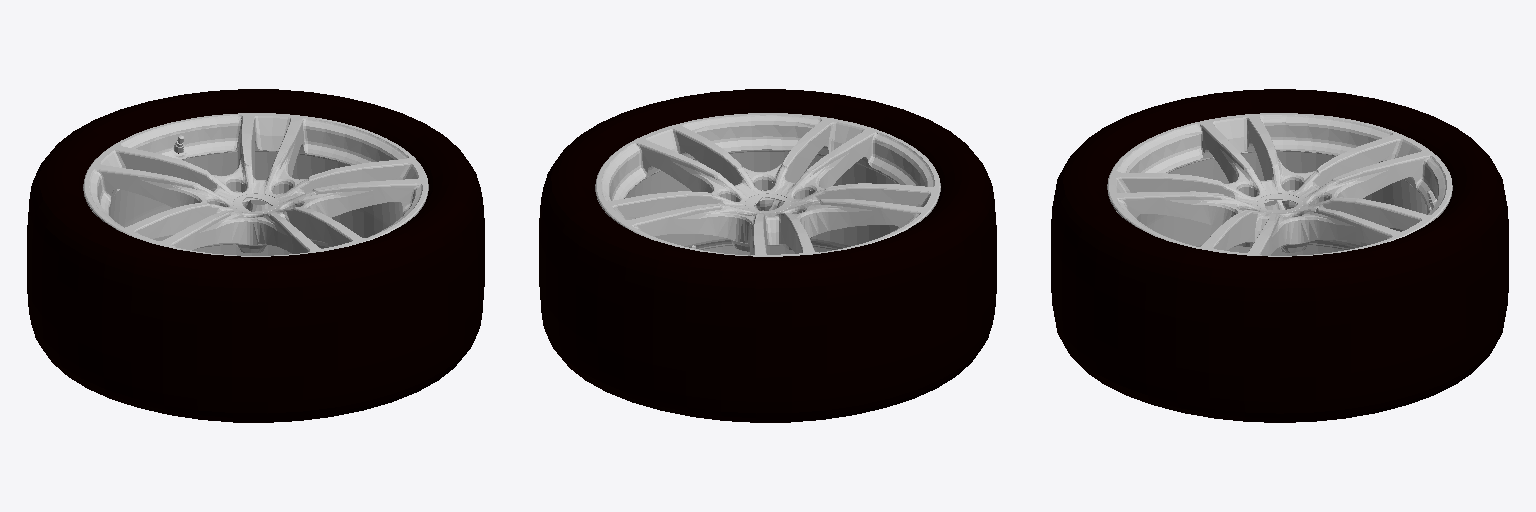
File: E3_Reifen_VA_centered.obj
The picture shows the model from 3 angles: view 1: azimuth 30°, elevation 25°; view 2: azimuth 150°, elevation 25°; view 3: azimuth 270°, elevation 25°; orthographic projection.
Parts seen in each view (by area): view 1: Default PSHELL; view 2: Default PSHELL; view 3: Default PSHELL.
Boxes of the visible parts, x1,y1,x2,y2 form: Default PSHELL: [27, 89, 484, 422]; Default PSHELL: [539, 89, 996, 422]; Default PSHELL: [1051, 89, 1508, 422].
Size of the model in its own units: 3.8 by 1.47 by 3.8.